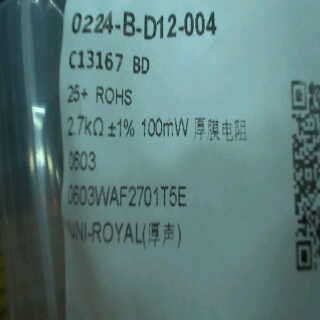2.7kR: (63, 112, 108, 139)
